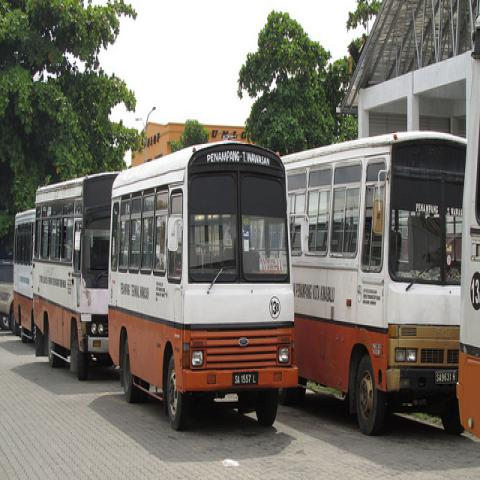bus: (287, 131, 470, 442), (109, 142, 297, 434), (32, 171, 123, 382), (459, 66, 479, 438), (12, 210, 36, 344)
car: (0, 260, 14, 330)
